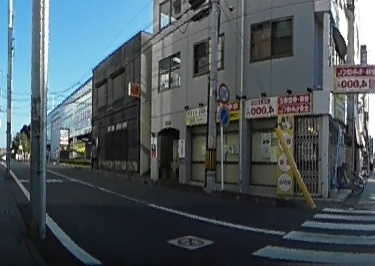person: (89, 141, 99, 170)
